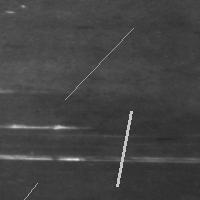scratches: (60, 23, 138, 104), (1, 149, 197, 165), (112, 106, 136, 191), (1, 122, 93, 133), (0, 178, 42, 200)
